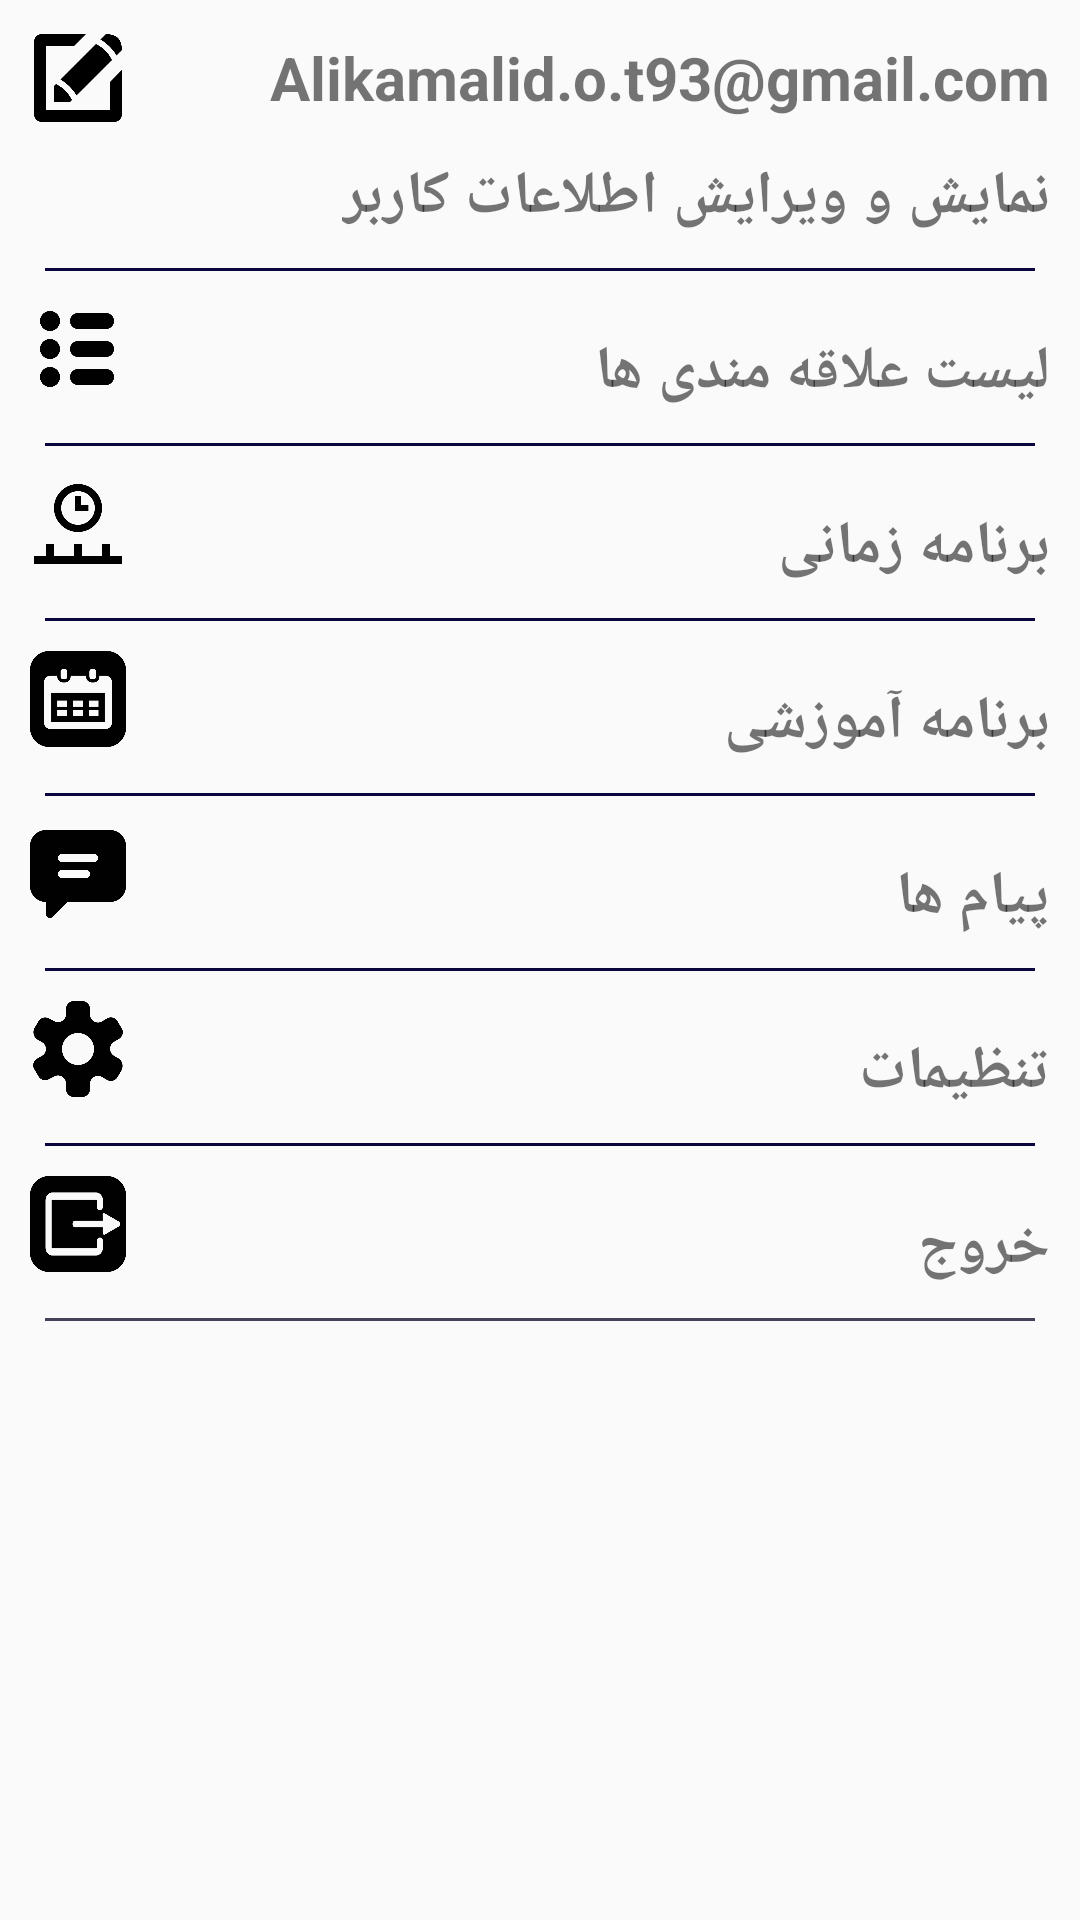

Where to tap for icons on this 1080w x 1920h app screen, as [x,y]:
edit: [78,78]
exit: [78,1224]
message: [78,874]
plantutorial: [78,699]
settings: [78,1049]
timeline: [78,524]
